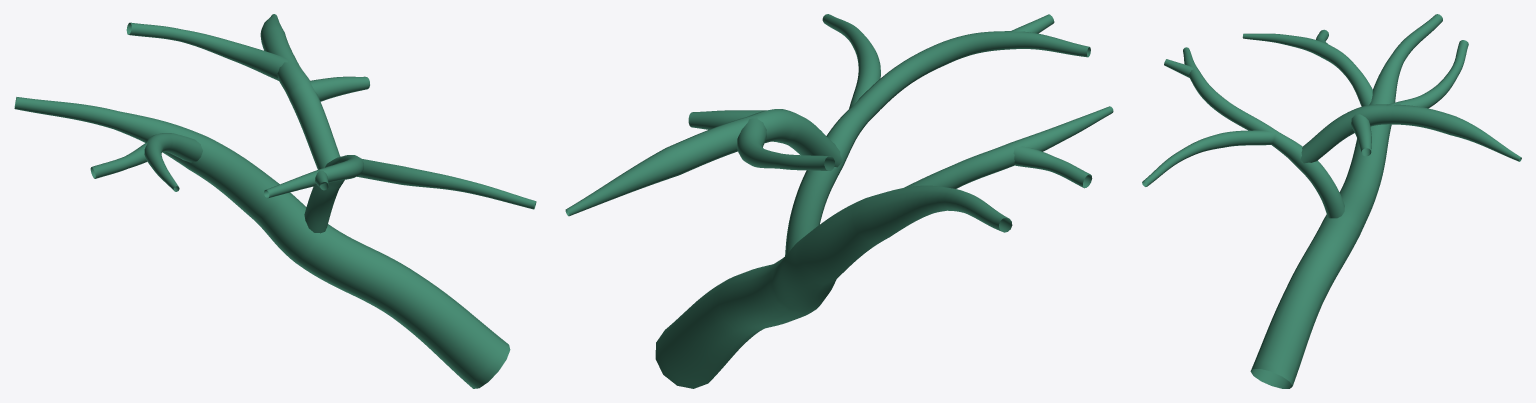
3 views of the same model, side by side, from view 1: azimuth 30°, elevation 25°; view 2: azimuth 150°, elevation 25°; view 3: azimuth 270°, elevation 25° (orthographic). The views are drawn at different scales.
Parts seen in each view (by area): view 1: 右肺下叶上段支气管（第6段）; view 2: 右肺下叶上段支气管（第6段）; view 3: 右肺下叶上段支气管（第6段）.
Part boxes in pixels (<box>): 右肺下叶上段支气管（第6段）: <box>14,14,536,388</box>; 右肺下叶上段支气管（第6段）: <box>565,14,1113,388</box>; 右肺下叶上段支气管（第6段）: <box>1142,14,1521,388</box>.
Bounding box in the file's own units: 0.105 × 0.0851 × 0.1119.
